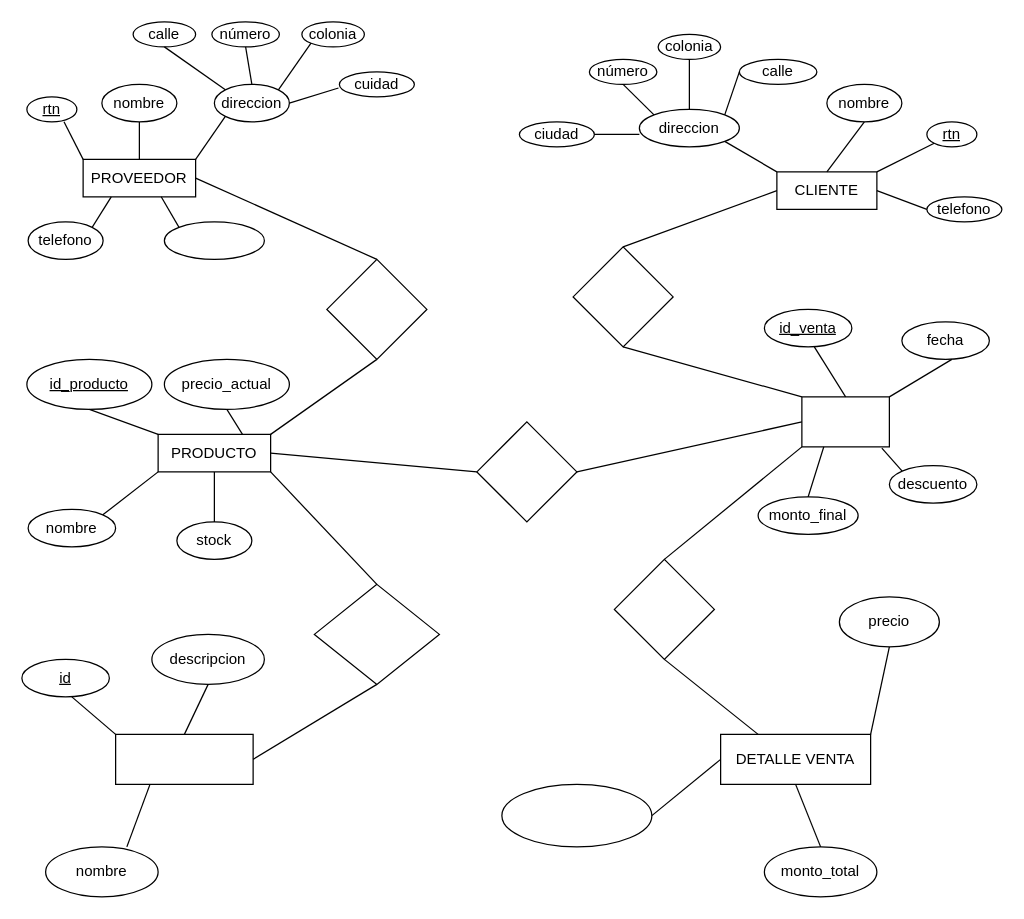
The diagram is 1024 pixels wide and 919 high, and some of its shapes have lost their labels. The centre of each missing label's shape, as x and y in pixels:
"cantidad_ventida" goes at (576,815).
"CATEGORIAS" goes at (183,758).
"CONTIENE" goes at (622,296).
"OBTIENE" goes at (663,608).
"pagina web" goes at (213,240).
"PERTENECE" goes at (376,633).
"POSEE" goes at (526,471).
"TIENE" goes at (376,308).
"VENTA" goes at (845,421).
